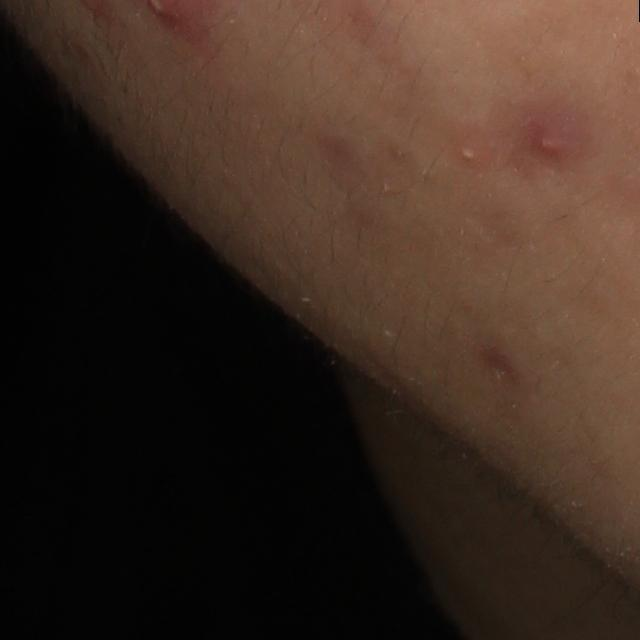papule: (529, 121, 571, 162)
pustule: (455, 134, 484, 168)
